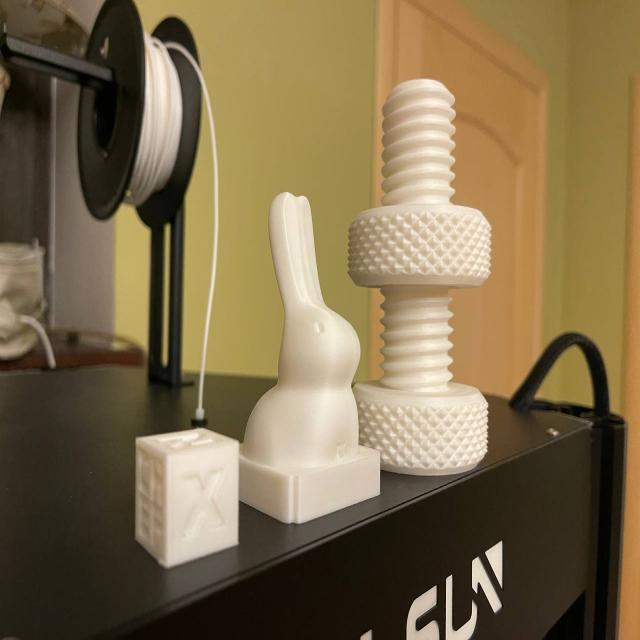Without deffect: (134, 47, 498, 575)
